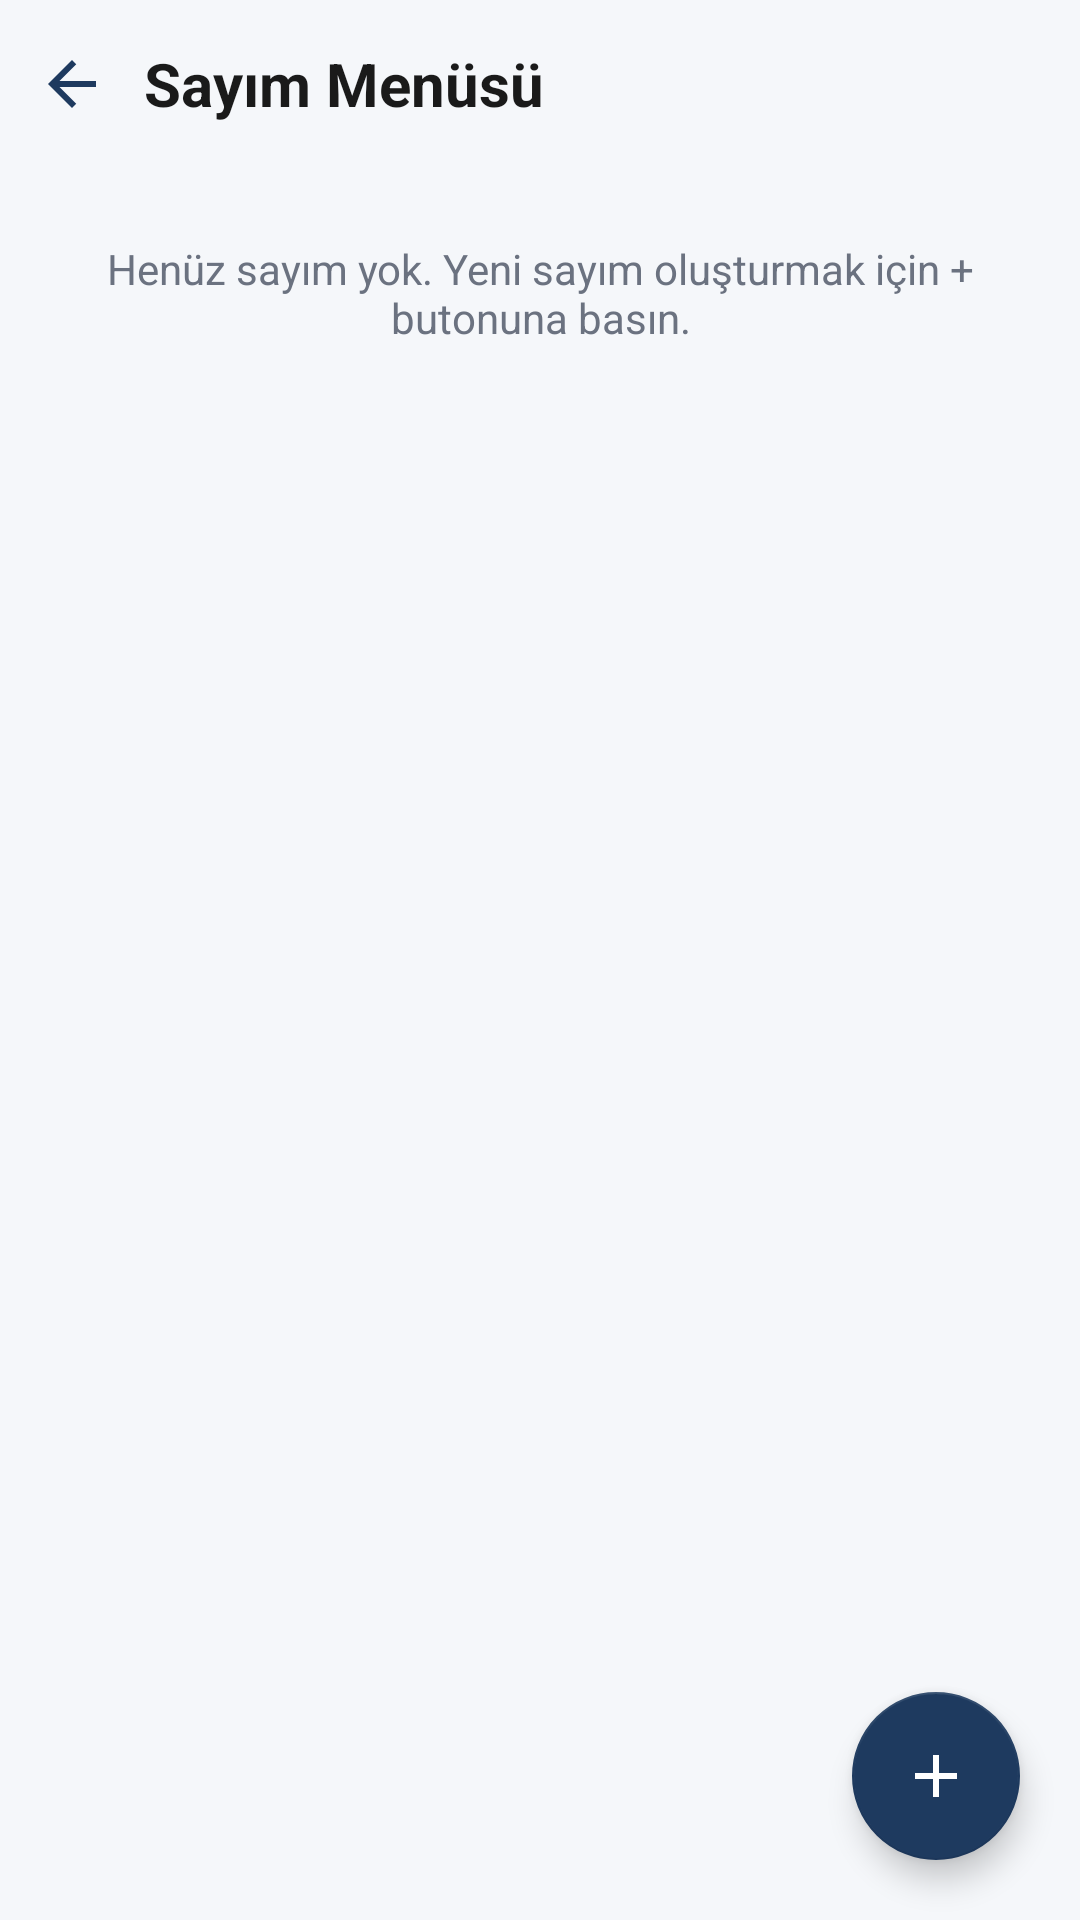

Icon click points for this 1080x1920 phone screenshot, format (x,y):
Geri: (72,84)
Yeni Sayım: (936,1776)
